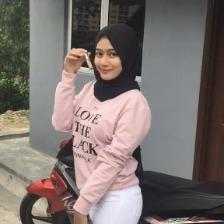Non Syar-i: (91, 22, 141, 106)
